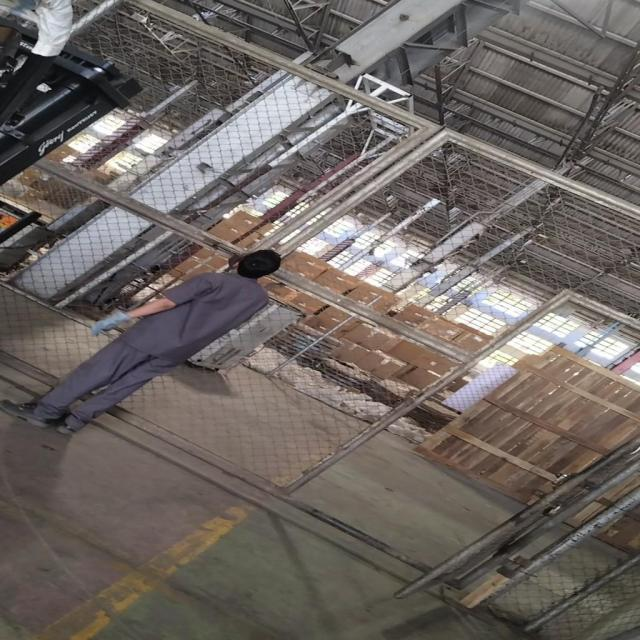Gloves-Detection: (88, 306, 130, 340)
